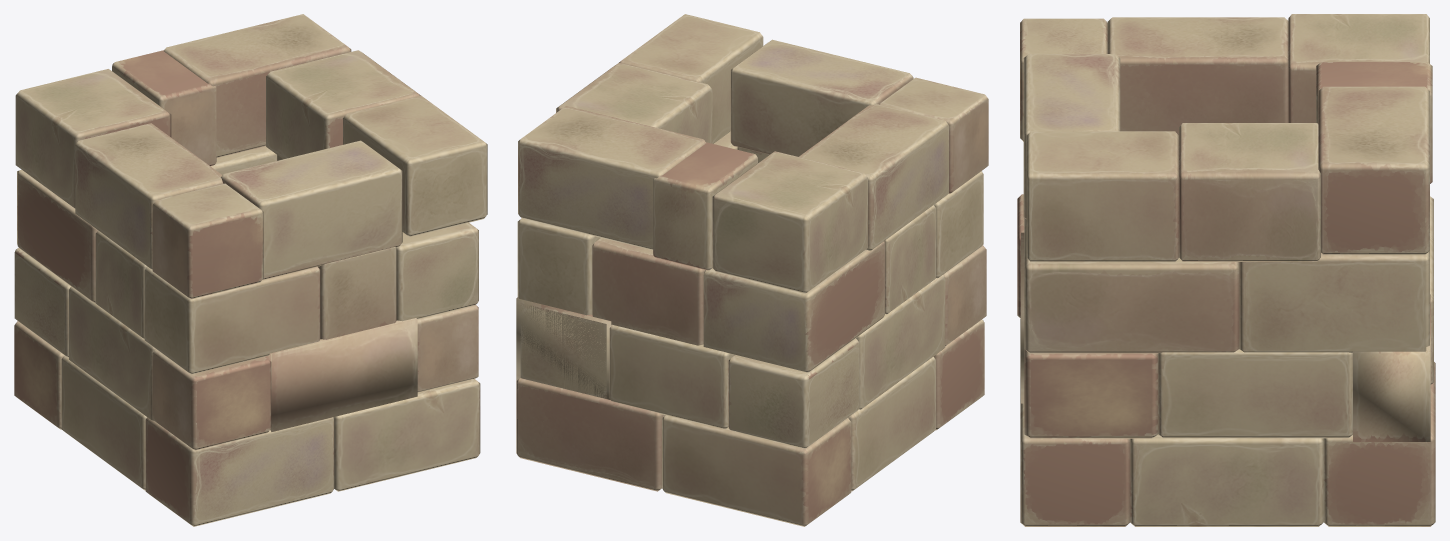
File: squarepillar.fbx
3 renders of one model, left to right at view 1: azimuth 30°, elevation 25°; view 2: azimuth 150°, elevation 25°; view 3: azimuth 270°, elevation 25°, orthographic. The views are drawn at different scales.
Visible parts, largest first — view 1: squarepillar_LOD0; view 2: squarepillar_LOD0; view 3: squarepillar_LOD0.
Boxes of the visible parts, left/top/right/bottom form: squarepillar_LOD0: left=14, top=14, right=487, bottom=526; squarepillar_LOD0: left=516, top=14, right=988, bottom=526; squarepillar_LOD0: left=1017, top=14, right=1435, bottom=526.
Bounding box in the file's own units: 1.67 × 1.66 × 1.73.
